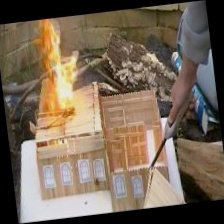fire: (25, 13, 83, 127)
